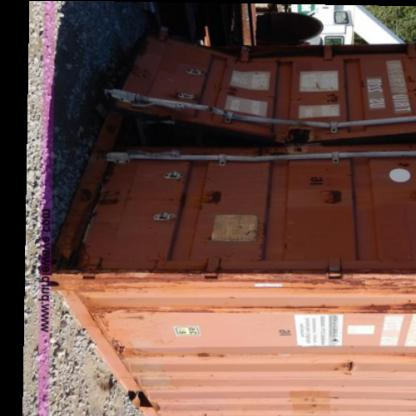Damage: (108, 66, 326, 183), (110, 336, 236, 364), (330, 354, 370, 382)
